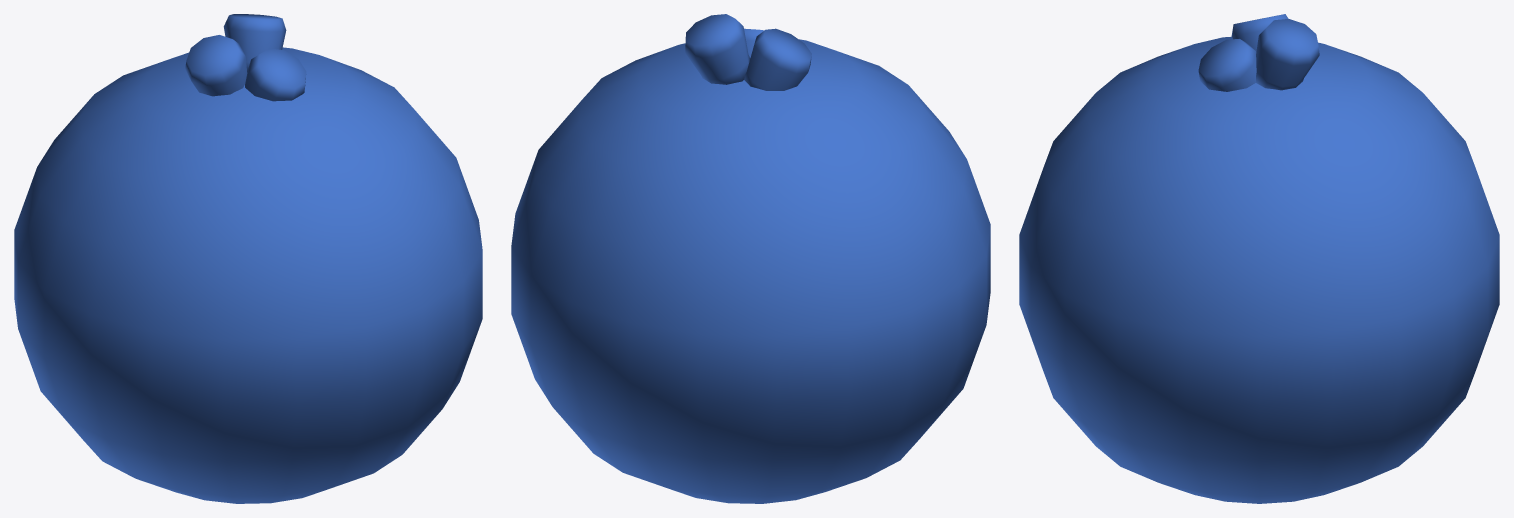
The model's file is BerryBlueLow.fbx.
3 renders of one model, left to right at view 1: azimuth 30°, elevation 25°; view 2: azimuth 150°, elevation 25°; view 3: azimuth 270°, elevation 25°, orthographic. The views are drawn at different scales.
Visible parts, largest first — view 1: BlueBerryLow; view 2: BlueBerryLow; view 3: BlueBerryLow.
Boxes of the visible parts, box(x1,y1,x2,y2) form: BlueBerryLow: box(14, 14, 482, 503); BlueBerryLow: box(511, 14, 990, 503); BlueBerryLow: box(1019, 14, 1499, 503).
Bounding box in the file's own units: 1.95 × 2.04 × 1.95.
